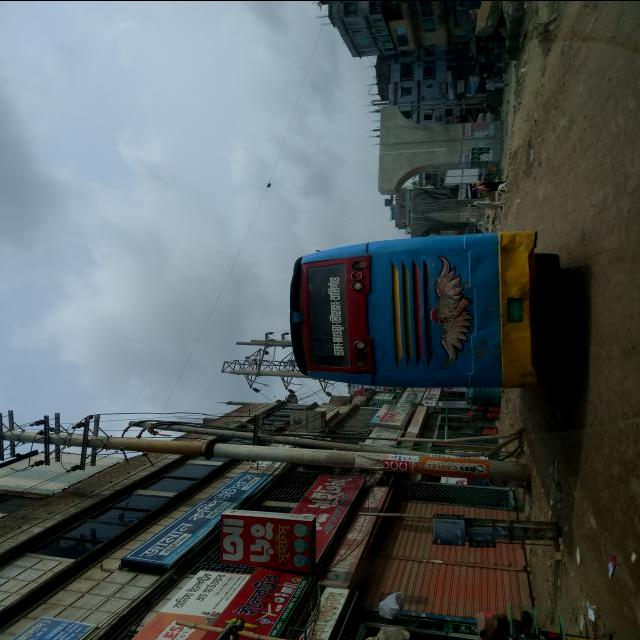bus: (290, 231, 561, 389)
